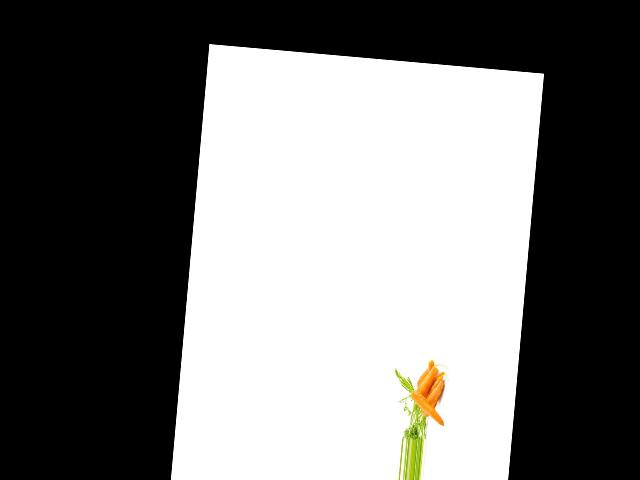carrot: (420, 372, 444, 420)
